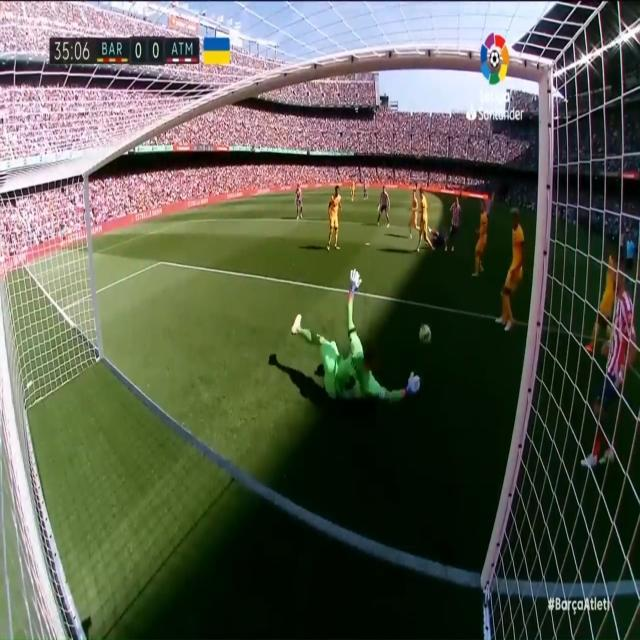ball: (417, 310, 433, 355)
player: (260, 260, 426, 420), (580, 256, 640, 481), (584, 233, 620, 357), (500, 199, 526, 345), (467, 191, 487, 282), (412, 185, 430, 259), (442, 189, 462, 254), (324, 180, 341, 253), (423, 218, 454, 254), (404, 184, 419, 242), (373, 182, 391, 230), (291, 177, 304, 224), (349, 177, 356, 203), (361, 176, 368, 202)
referee: (621, 222, 637, 298)
